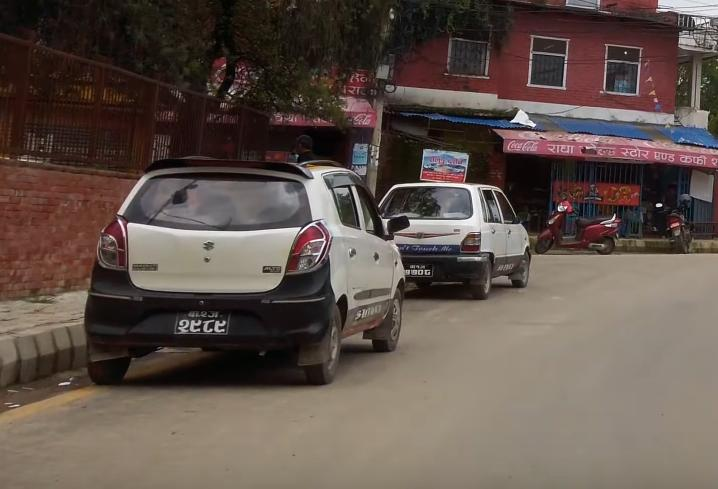bike: (651, 196, 700, 255)
scooter: (538, 196, 627, 260)
taxi: (79, 146, 411, 389), (369, 167, 539, 306)
